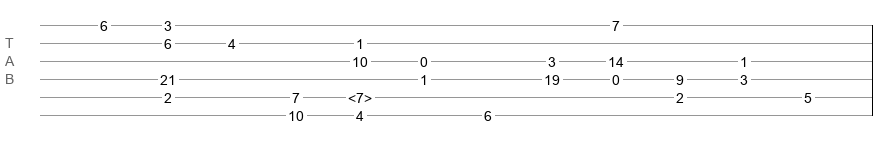0: (420, 54, 428, 64), (612, 72, 620, 82)
1: (356, 36, 364, 46), (420, 72, 428, 82), (740, 54, 748, 64)
10: (288, 108, 304, 118), (352, 54, 368, 64)
14: (608, 54, 624, 64)
19: (544, 72, 560, 82)
2: (164, 90, 172, 100), (676, 90, 684, 100)
21: (160, 72, 176, 82)
3: (164, 18, 172, 28), (548, 54, 556, 64), (740, 72, 748, 82)
4: (228, 36, 236, 46), (356, 108, 364, 118)
5: (804, 90, 812, 100)
6: (100, 18, 108, 28), (164, 36, 172, 46), (484, 108, 492, 118)
7: (292, 90, 300, 100), (612, 18, 620, 28)
9: (676, 72, 684, 82)
harmonic: (348, 90, 372, 100)
